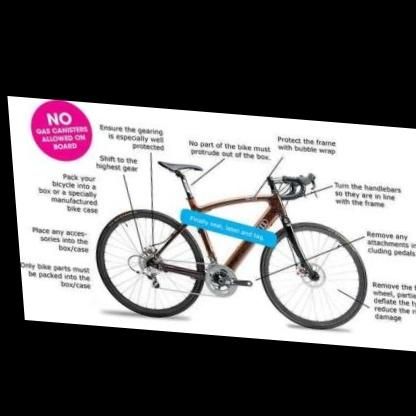Bicycle: (92, 152, 372, 331)
